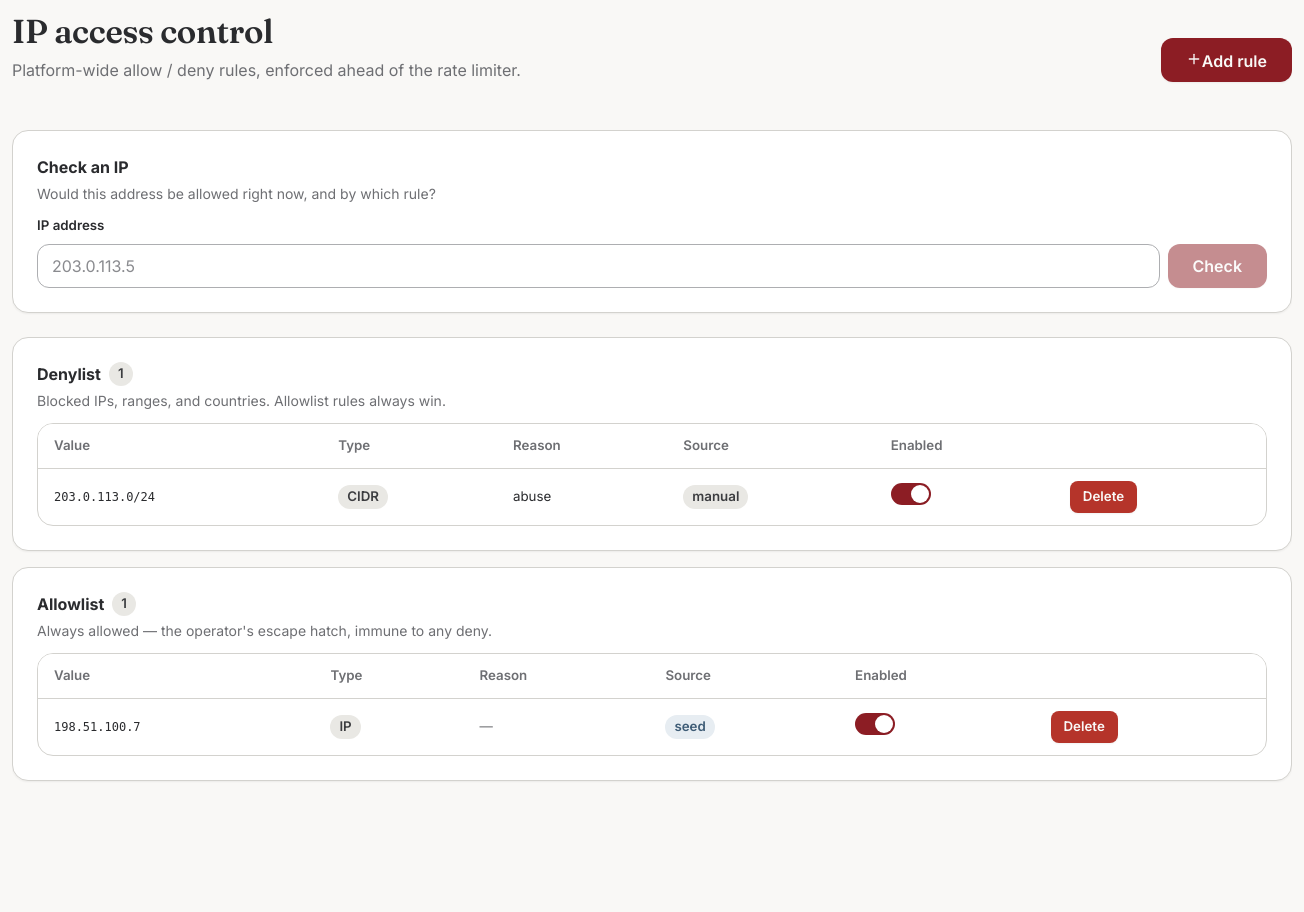
Test case: IpRulesPage › checks an IP and shows the verdict from /test
The width and height of the screenshot is (1304, 912).
Expected: the text "203.0.113.0/24" is shown, [54,490,155,504]
In the field named "IP address to check": coordinates (598, 266) [50,245,1146,287], type "203.0.113.9"
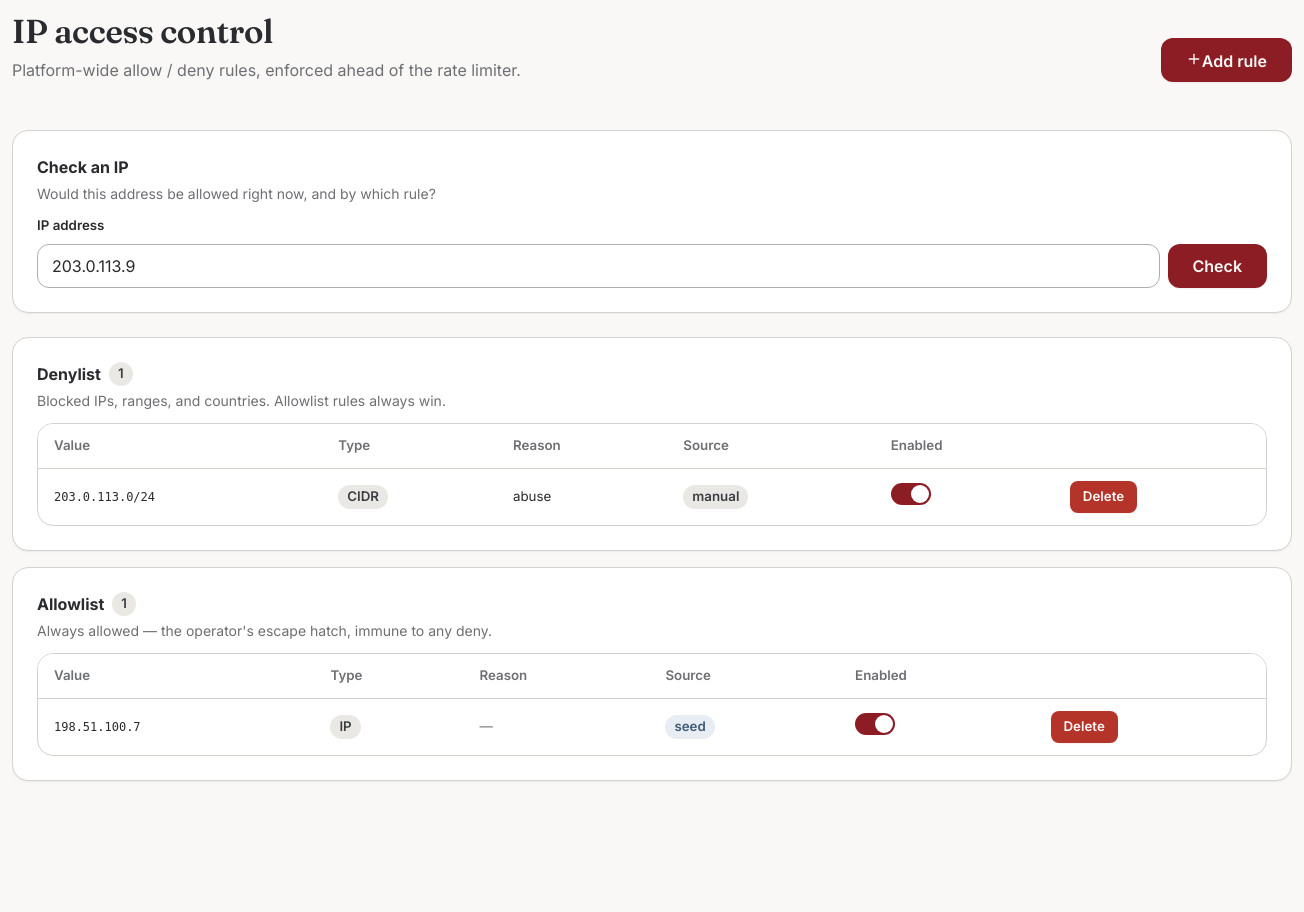
Click the button "Check": coordinates (1217, 266) [1168,244,1267,288]
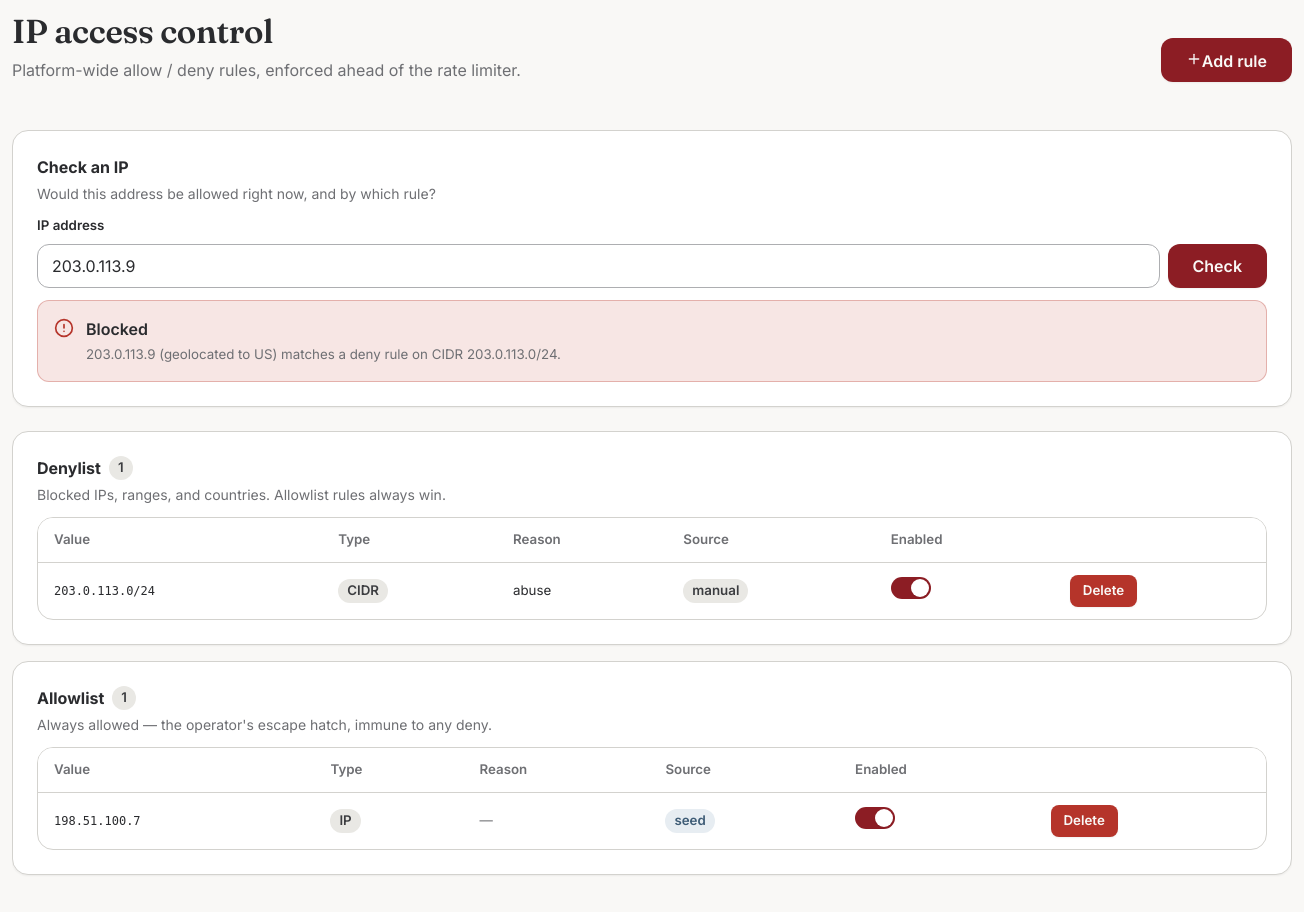
Expected: the text "matches a deny rule on CIDR" is shown, [86,346,561,362]
